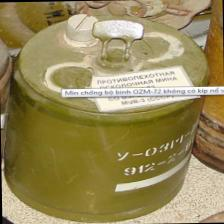OZM-72: (3, 12, 195, 224)
